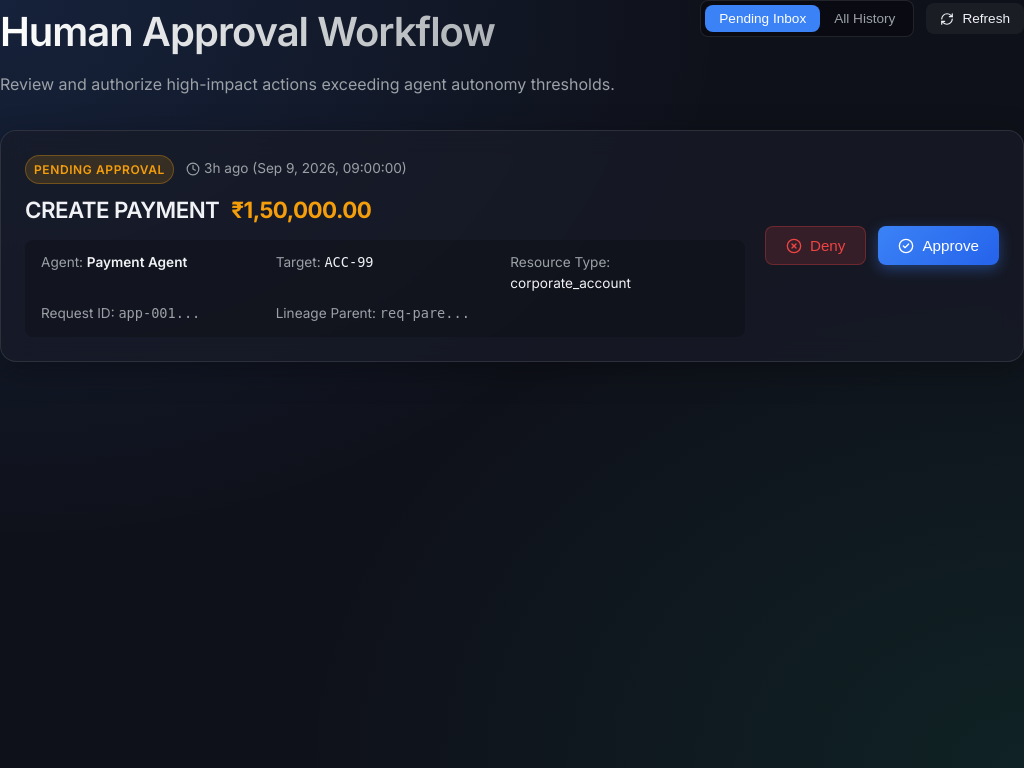
Approvals Component › gracefully handles already processed race conditions without generic errors
Click the button "Approve" at x=939, y=246, box x1=878 y1=226 x2=999 y2=265
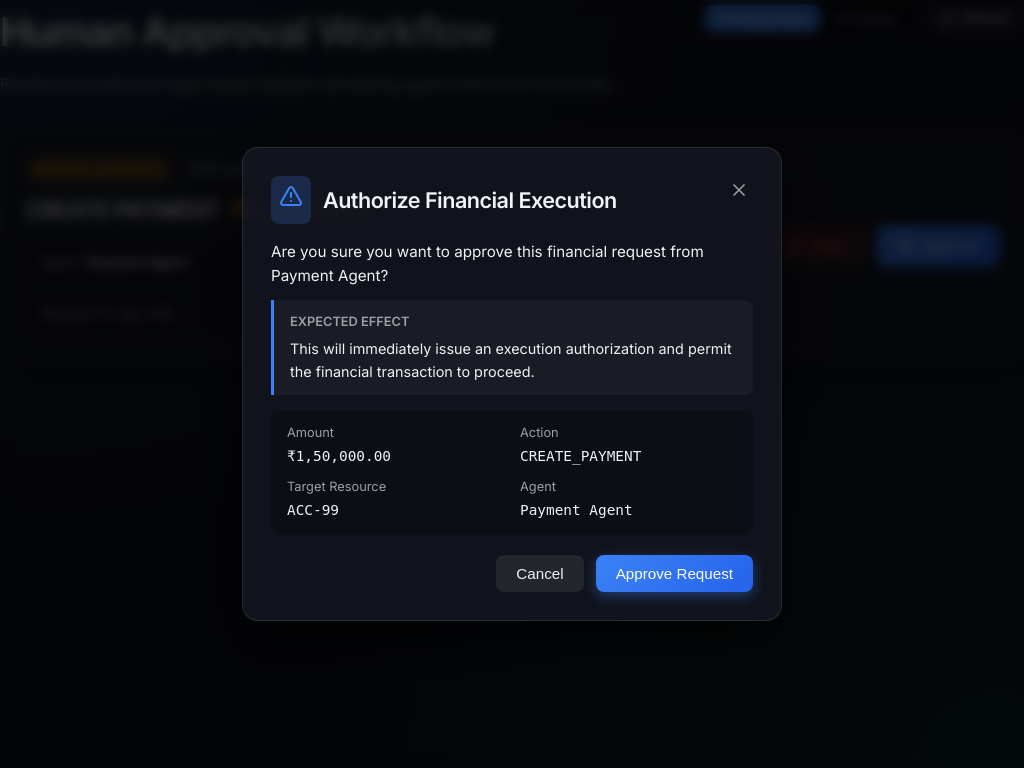
Click the button "Approve Request" at x=674, y=574, box x1=596 y1=555 x2=753 y2=592
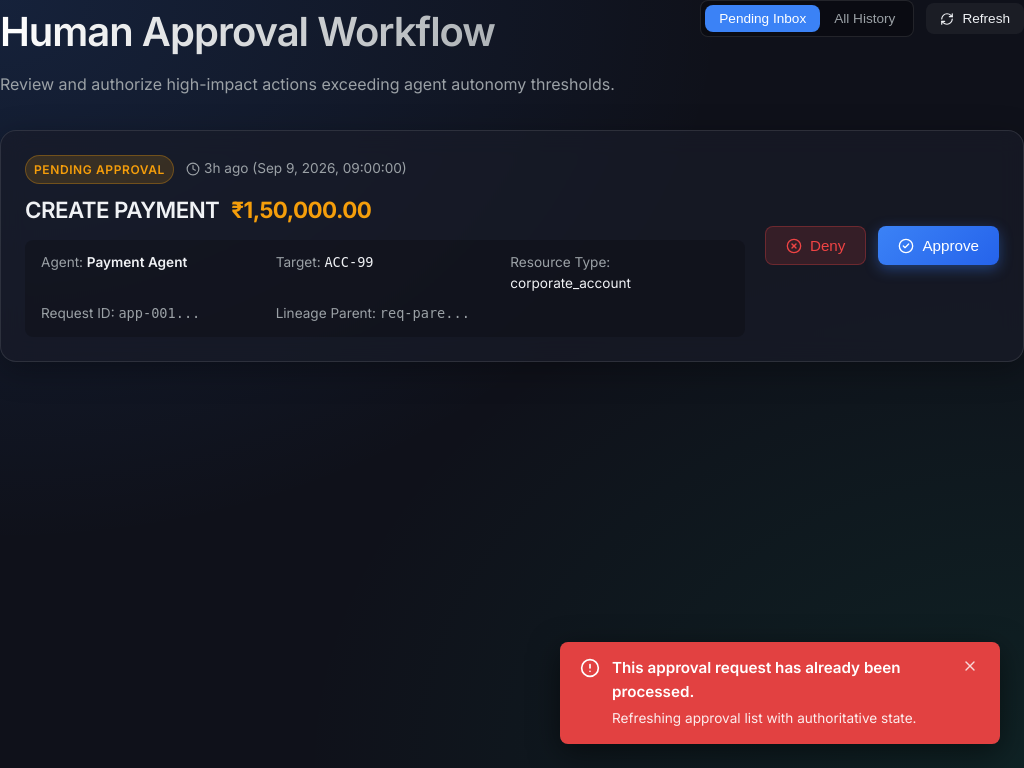
Expected: the text "This approval request has already been processed." is shown, x1=612 y1=656 x2=940 y2=704
